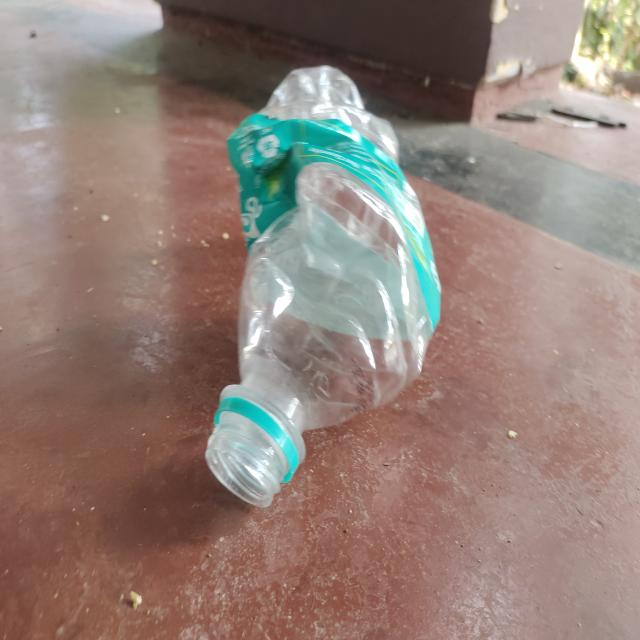plastic: (204, 61, 446, 513)
